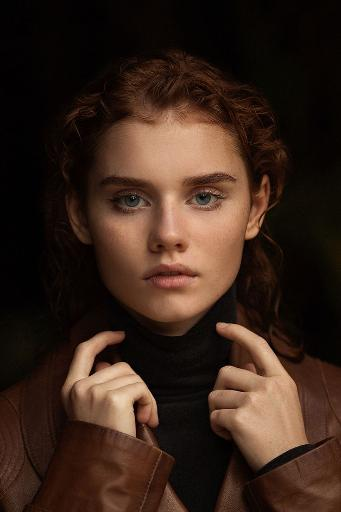left_eye: (186, 190, 226, 213)
left_lip_corner: (192, 270, 205, 285)
right_eye: (110, 192, 152, 216)
right_lip_corner: (142, 274, 152, 289)
